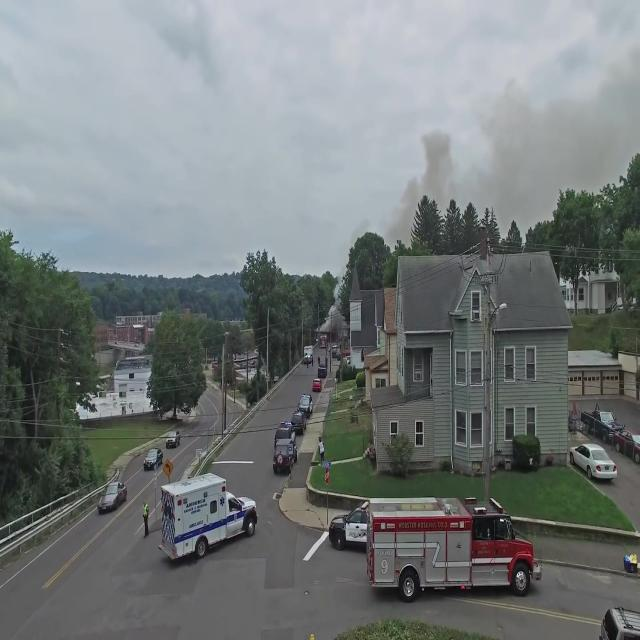Smoke: (310, 137, 459, 349)
